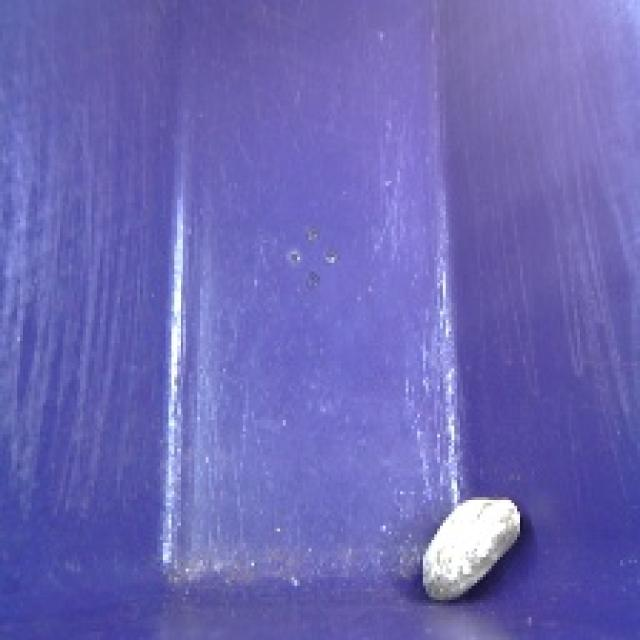cobbles: (399, 482, 532, 613)
